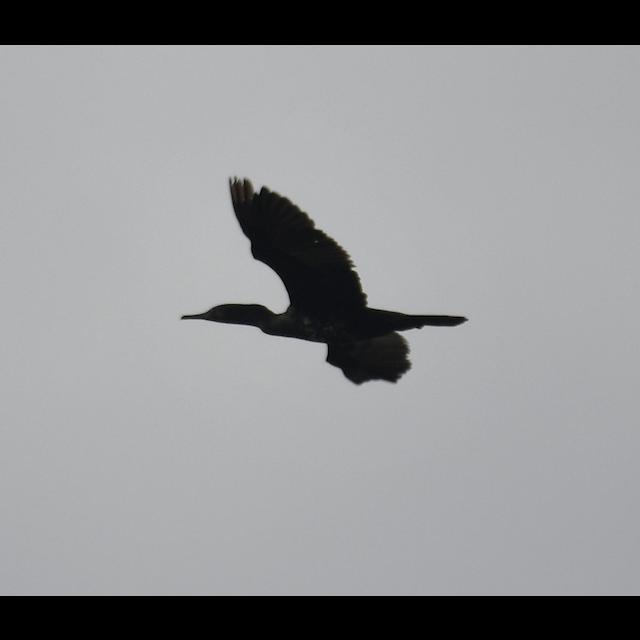cormorant: (180, 173, 464, 387)
